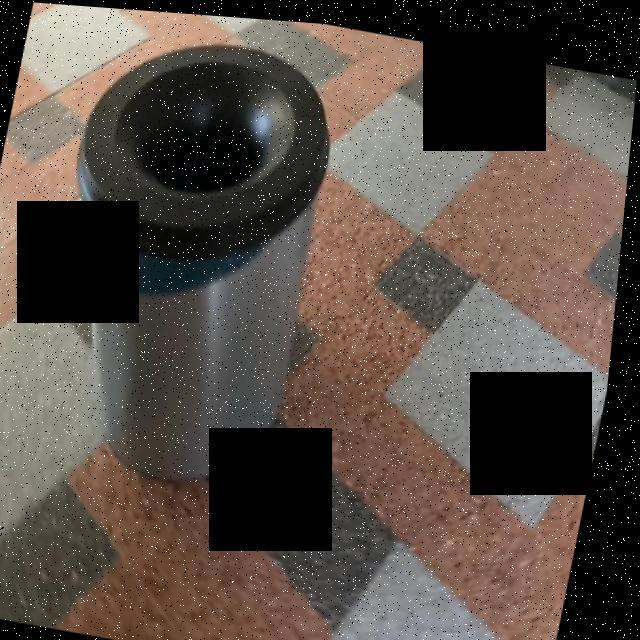bin: (12, 3, 388, 513)
